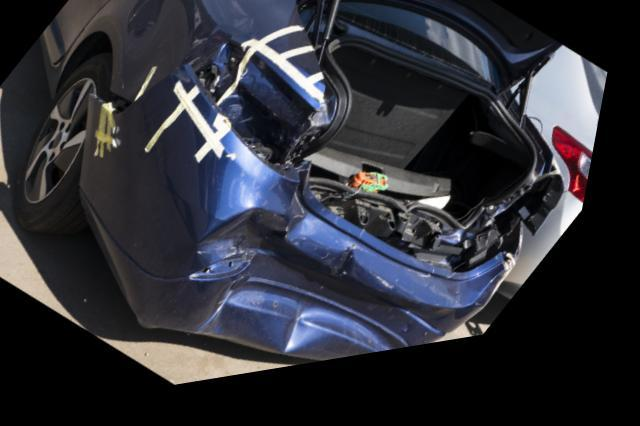dent: (206, 208, 444, 367)
dislocated part: (84, 75, 525, 377)
no part: (192, 55, 317, 178)
